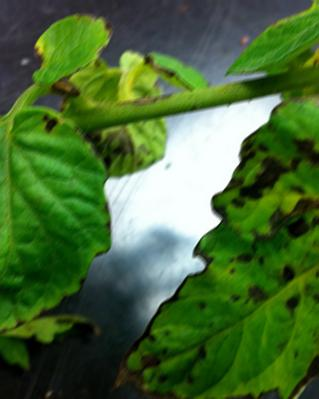Tomato leaf bacterial spot: (115, 93, 319, 399), (0, 89, 124, 376)
